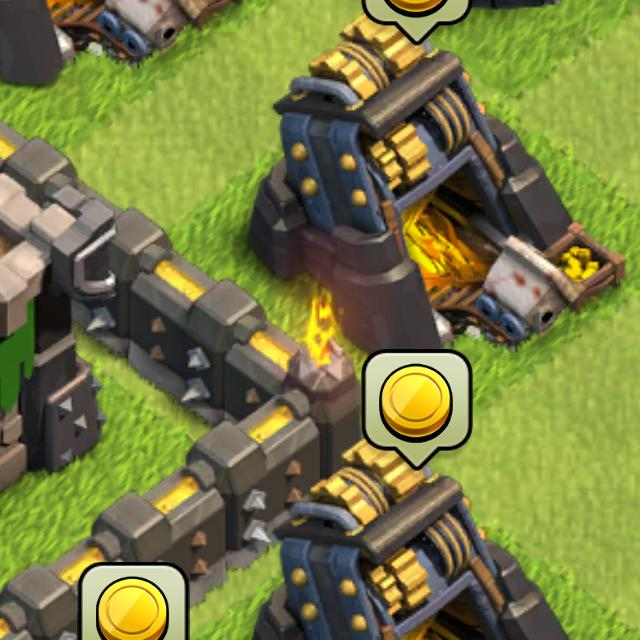coin: (362, 349, 471, 473), (80, 563, 190, 640), (365, 1, 473, 44)
